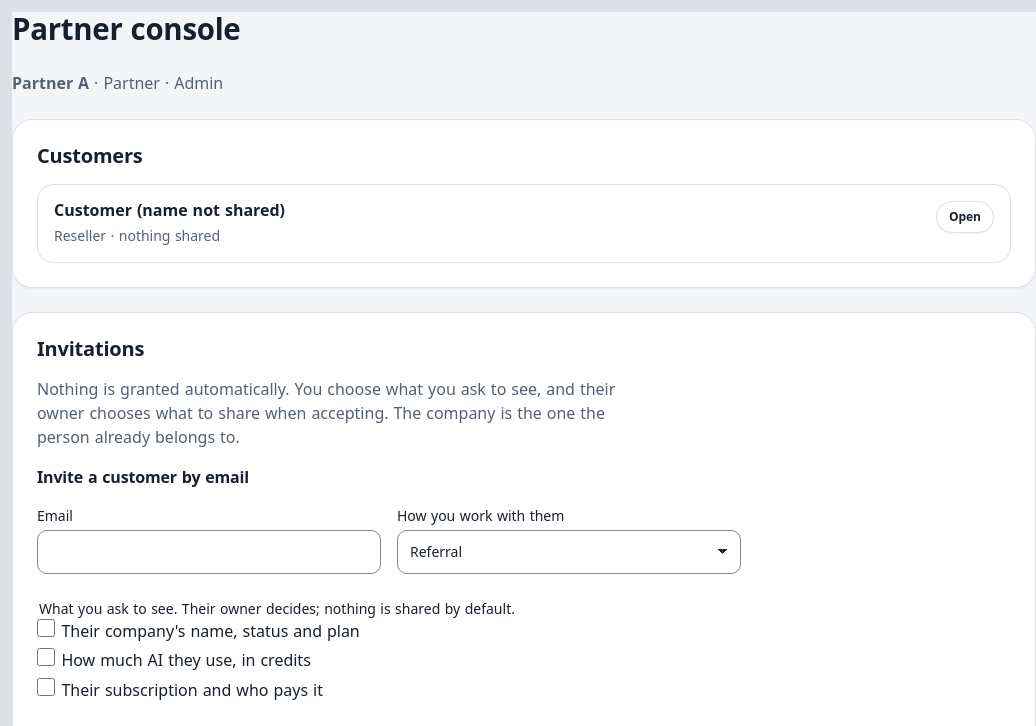
Test: the partner console (ADR-0090) › a customer that granted nothing shows nothing to open
This screenshot has width=1036, height=726.
Expected: the text "Customer (name not shared)" is shown, top-left (54, 199), bottom-right (285, 221)
Click the button "Open". click: (965, 217)
box: top-left (936, 201), bottom-right (994, 233)
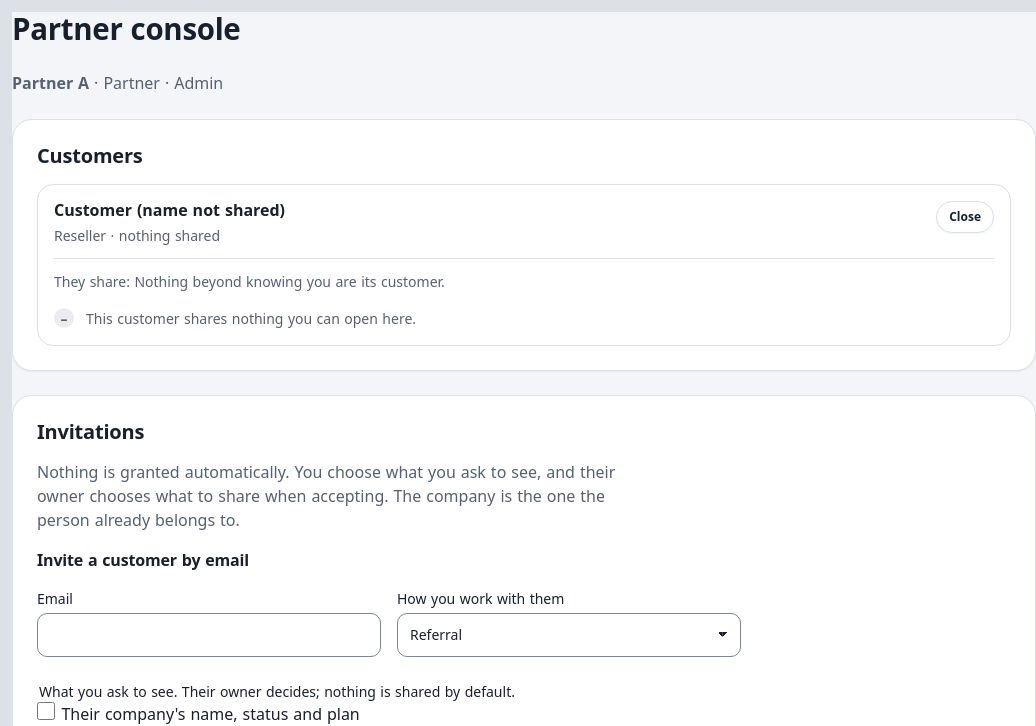
Now the text "This customer shares nothing you can open here." is shown, box top-left (86, 308), bottom-right (416, 328)
